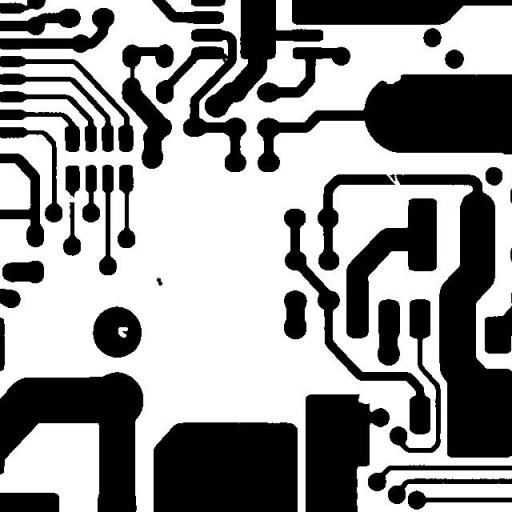copper: (150, 274, 170, 292)
mousebite: (370, 66, 408, 92), (350, 385, 380, 411)
open: (376, 158, 410, 202), (58, 184, 84, 210)
pin-hole: (110, 319, 136, 345)
short: (212, 44, 238, 71), (122, 55, 142, 90)
